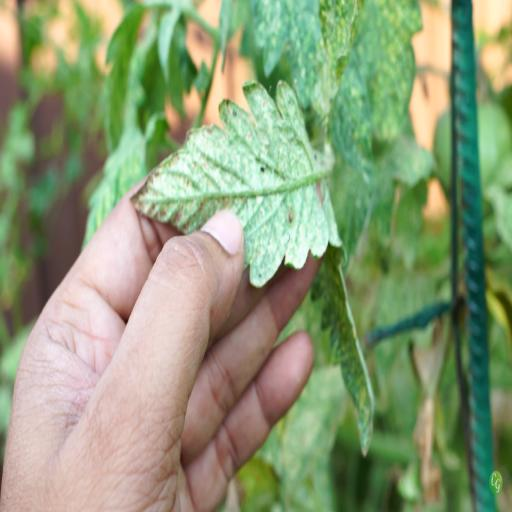Spider Mites: (130, 78, 344, 290), (308, 248, 378, 462)
